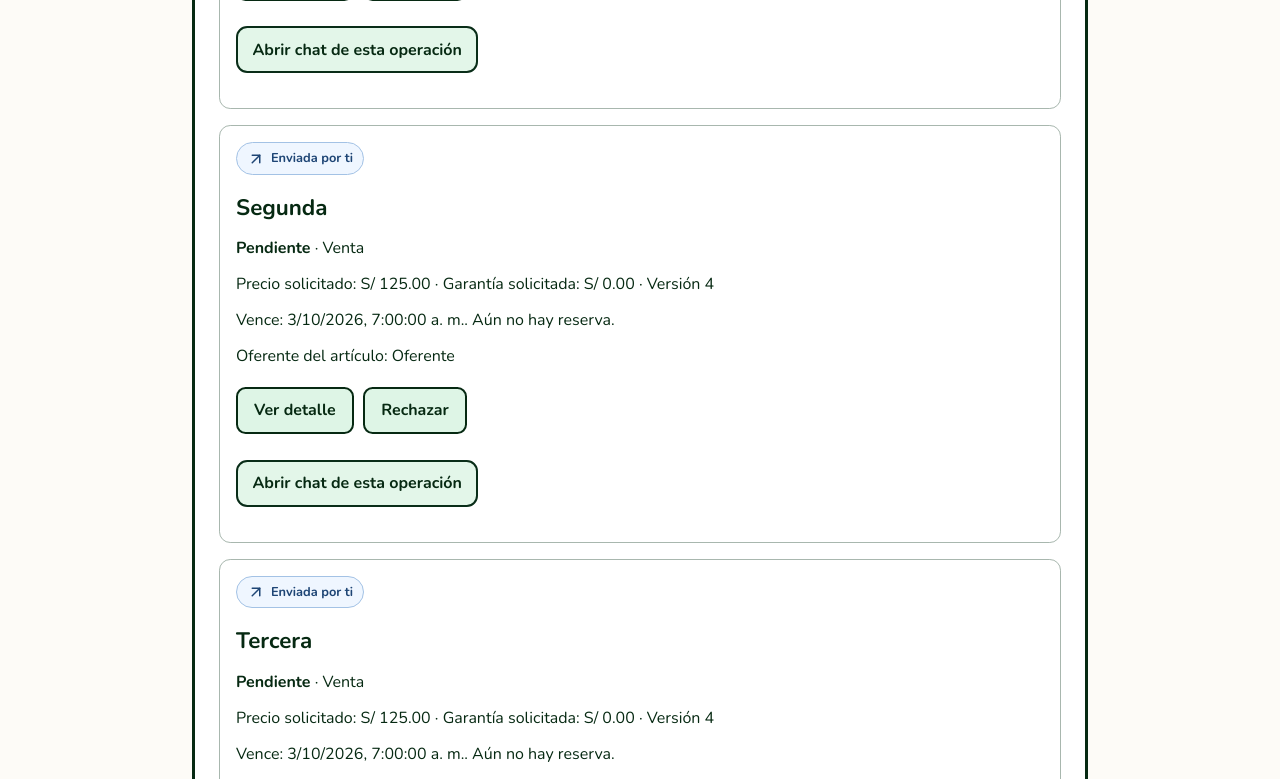
Test case: renders Rechazar confirmation beneath the selected request, not after the list
(page scrolled)
Click the button "Rechazar" below "Segunda".
click(415, 410)  # box [363,387,467,434]
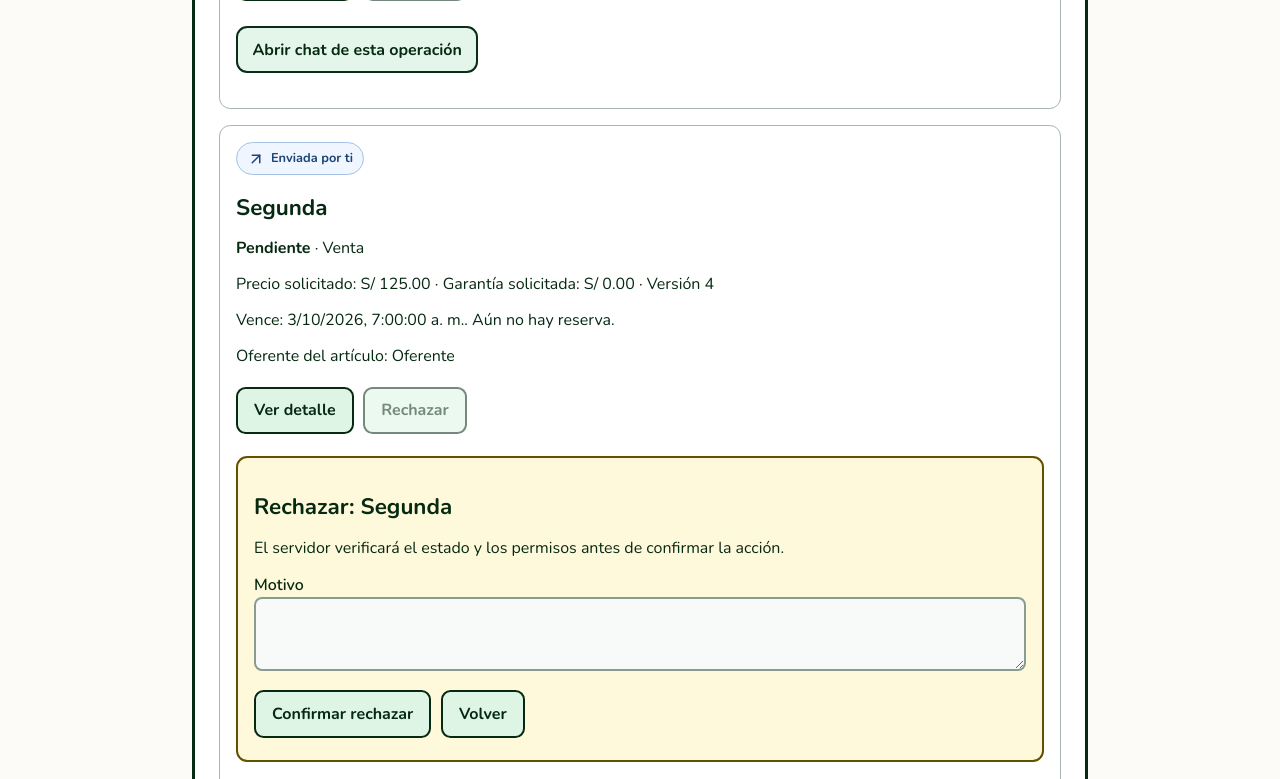
Click the button "Volver".
click(483, 714)  # box [441,690,525,738]
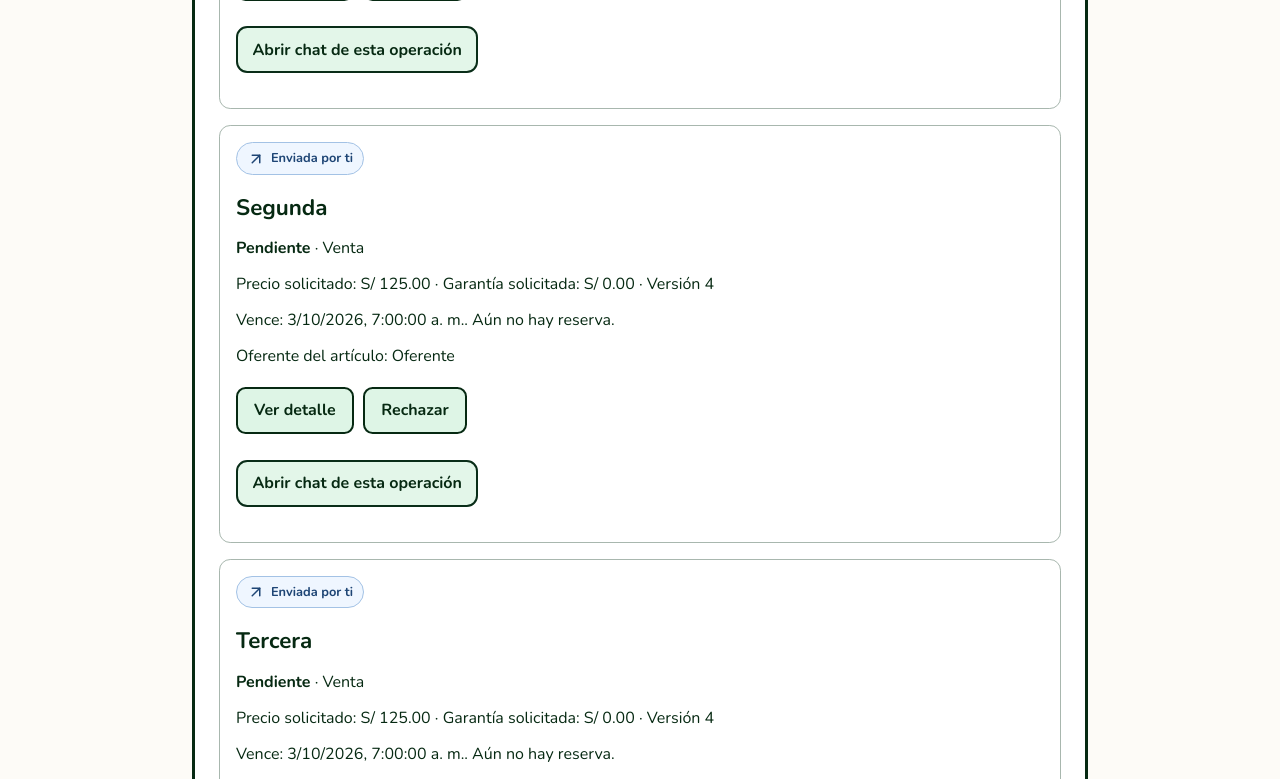
Result: the dialog is gone
